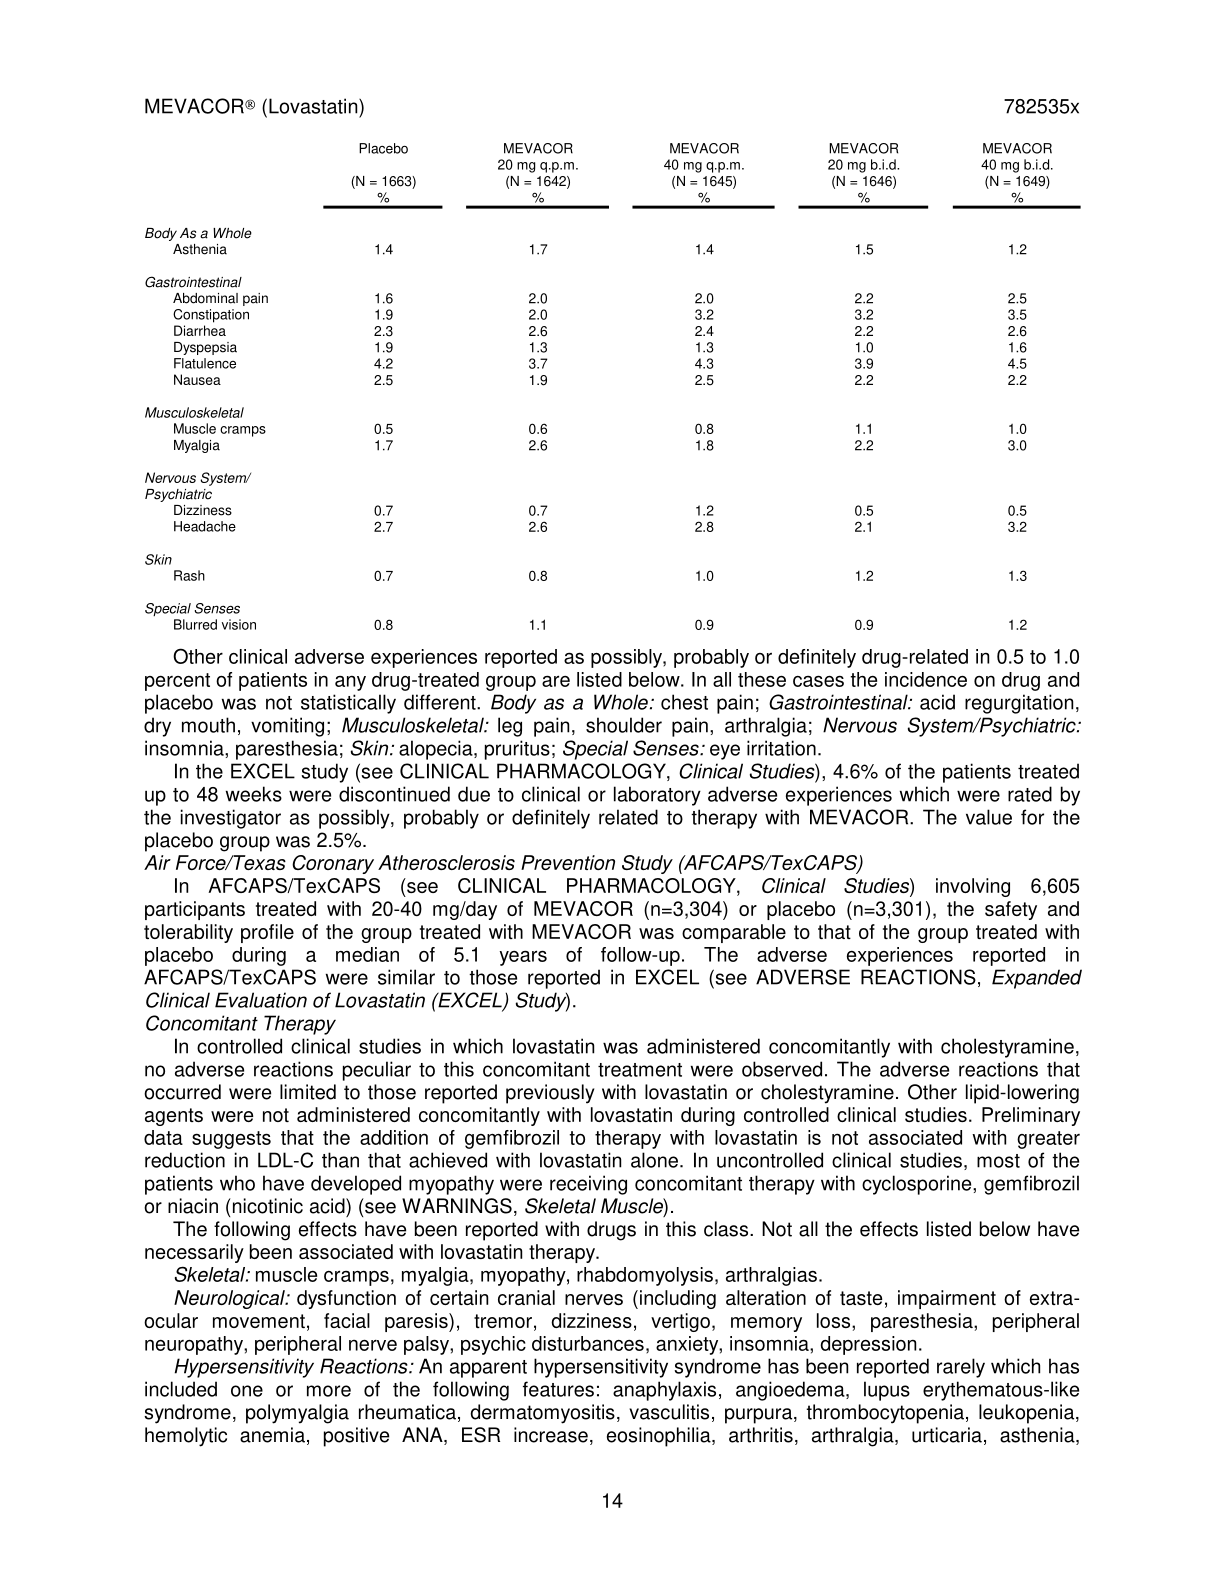nolines: (141, 138, 1079, 636)
